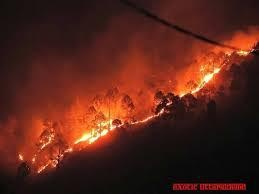fire: (176, 37, 253, 97)
